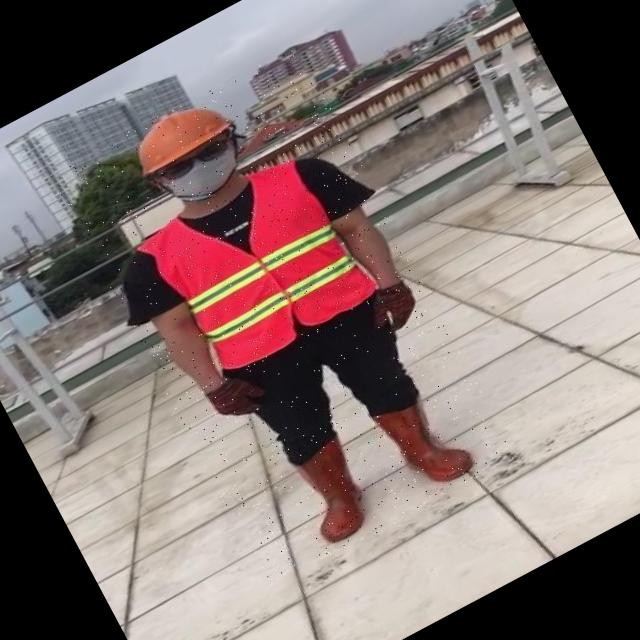hard_hat: (118, 86, 236, 179)
safety_vest: (136, 148, 378, 382)
vehicle: (51, 43, 518, 590)
work_boots: (278, 434, 382, 550), (374, 384, 476, 498)
